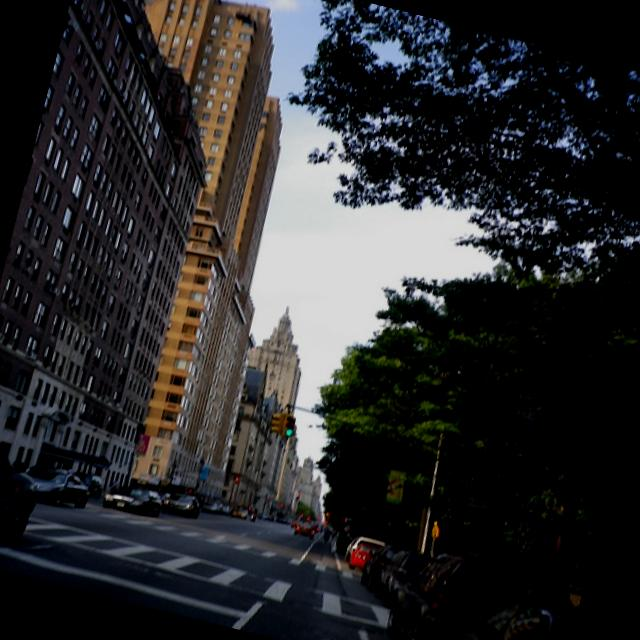Vehicle: (372, 535, 580, 640), (426, 569, 579, 640), (0, 422, 52, 573), (369, 538, 433, 614), (12, 458, 94, 514), (240, 501, 340, 541), (358, 538, 407, 596), (100, 478, 166, 520), (160, 488, 204, 522), (343, 532, 381, 566), (347, 540, 379, 574), (292, 522, 316, 540), (201, 500, 218, 515), (231, 506, 249, 520)
